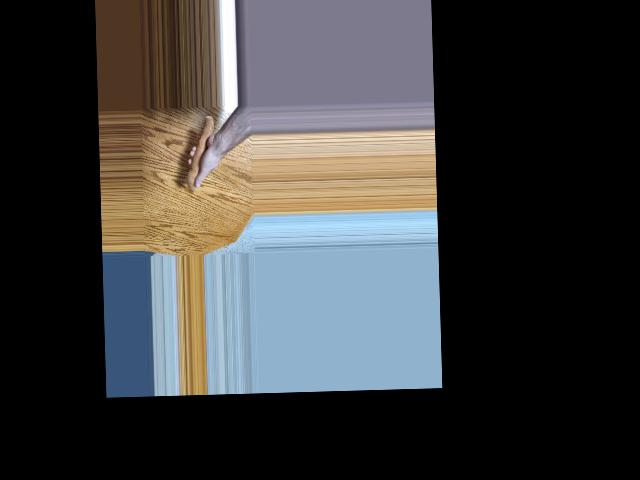sweet_potato: (182, 114, 218, 190)
